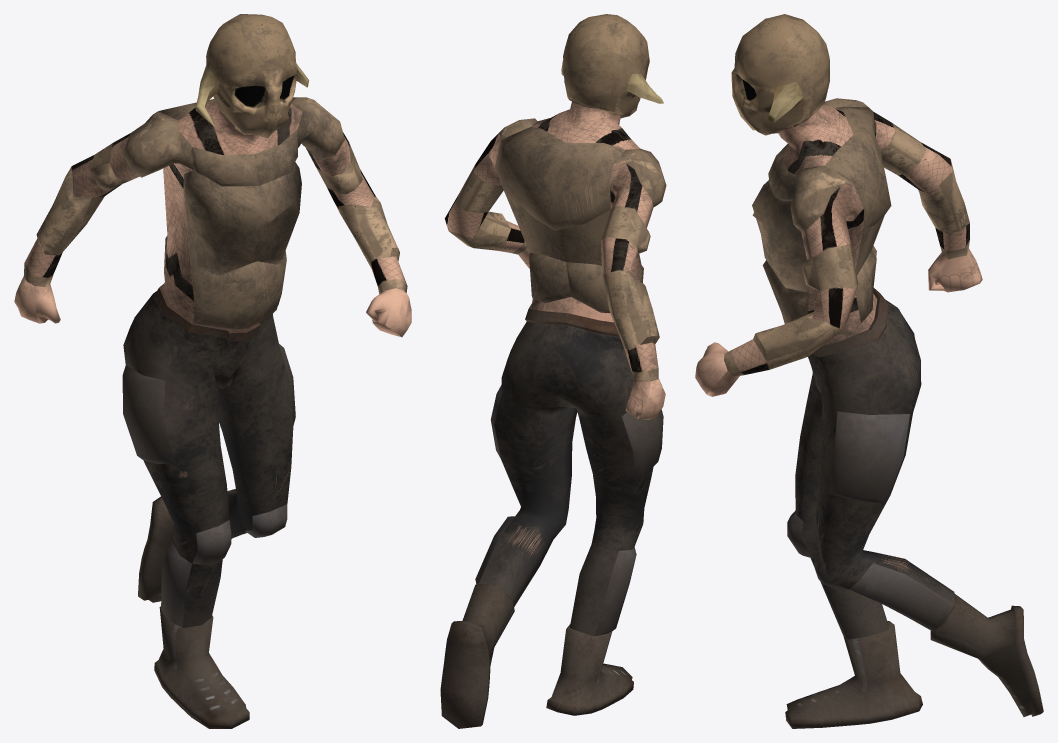
Rendered from Anim_correr_npc1.0032.obj.
3 views of the same model, side by side, from view 1: azimuth 30°, elevation 25°; view 2: azimuth 150°, elevation 25°; view 3: azimuth 270°, elevation 25° (orthographic). The views are drawn at different scales.
Visible parts, largest first — view 1: Anim_correr_npc1; view 2: Anim_correr_npc1; view 3: Anim_correr_npc1.
Boxes of the visible parts, <box> form: Anim_correr_npc1: <box>14,14,411,728</box>; Anim_correr_npc1: <box>440,14,666,728</box>; Anim_correr_npc1: <box>695,14,1043,728</box>.
Bounding box in the file's own units: 4.05 × 9.31 × 4.14.
